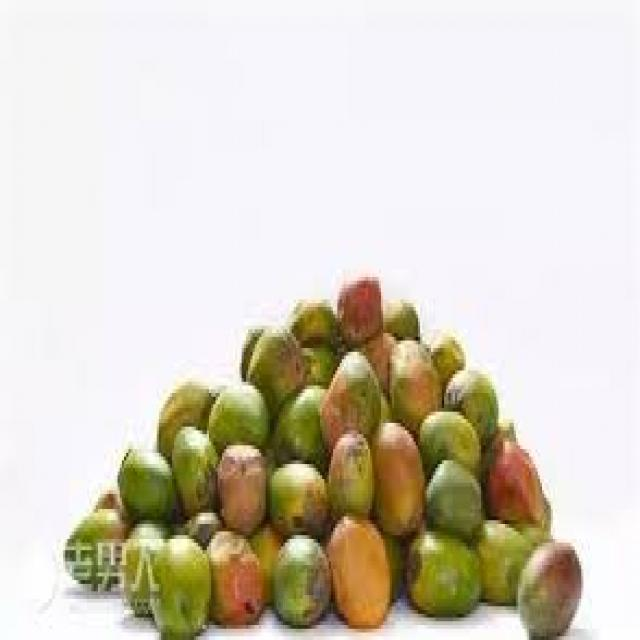organic waste: (326, 513, 389, 621), (403, 528, 481, 614), (483, 438, 551, 535), (518, 535, 583, 636), (370, 416, 420, 536), (474, 513, 538, 606), (150, 532, 207, 632), (316, 348, 376, 438), (204, 528, 264, 618), (388, 333, 444, 427), (61, 501, 124, 584), (274, 528, 329, 621), (263, 456, 329, 532), (124, 520, 172, 618), (205, 378, 270, 449), (440, 363, 494, 445), (244, 326, 307, 396), (270, 382, 326, 460), (420, 461, 481, 532), (216, 446, 264, 536), (324, 427, 372, 512), (115, 446, 172, 516), (420, 408, 479, 475), (170, 423, 215, 509), (157, 382, 211, 453), (335, 273, 379, 333), (285, 299, 335, 348), (250, 528, 281, 599), (366, 329, 396, 393), (383, 296, 418, 348), (305, 337, 337, 393), (426, 337, 462, 378), (240, 326, 264, 366), (96, 490, 120, 528)
